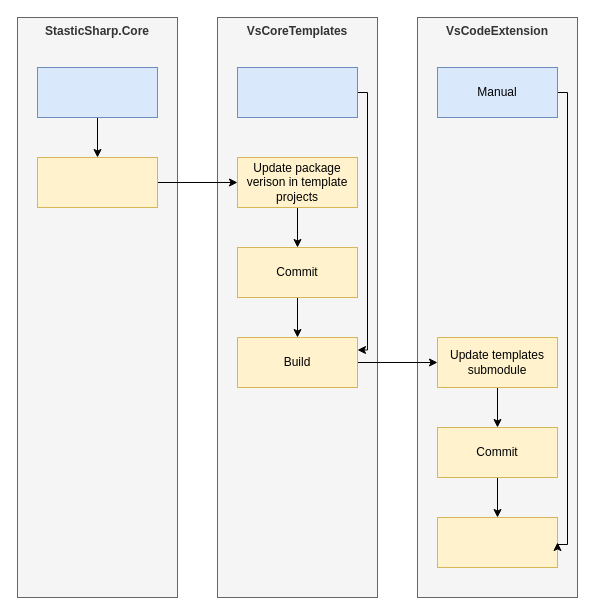
This 595x615 diagram has some shape labels left out. Each missing label, with the centre of its shape:
Git push: the point at 297,92
Git push / Manual: the point at 97,92
Publish extension: the point at 497,542
Publish nuget: the point at 97,182
